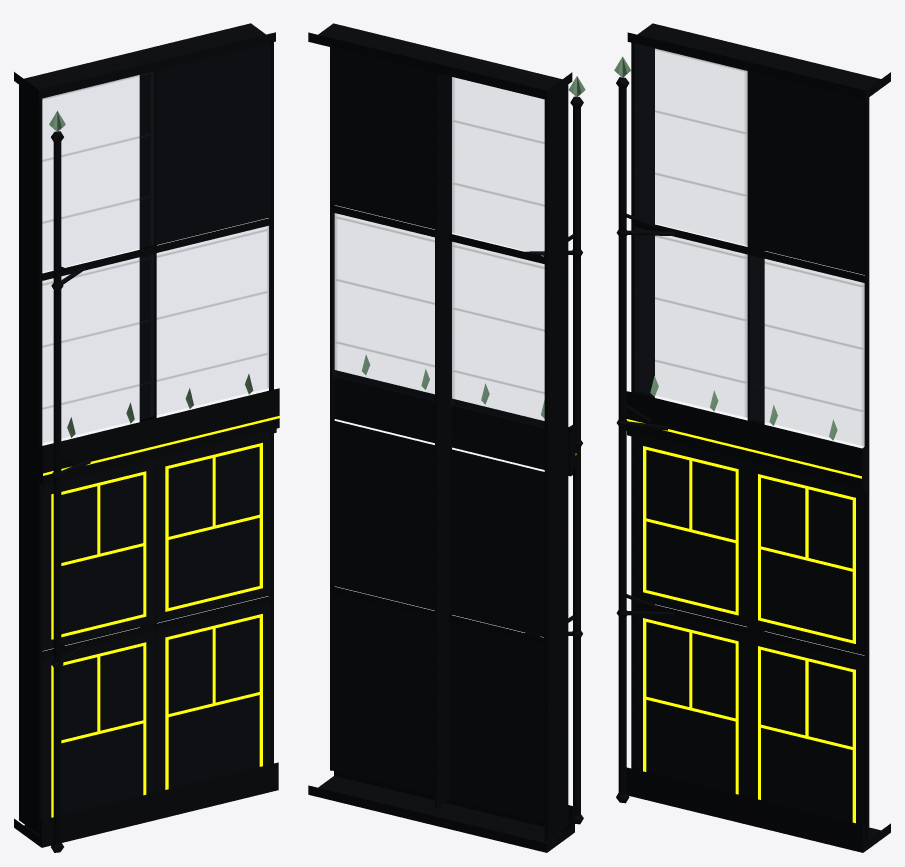
3 views of the same model, side by side, from view 1: azimuth 30°, elevation 25°; view 2: azimuth 150°, elevation 25°; view 3: azimuth 330°, elevation 25° (orthographic).
Parts seen in each view (by area): view 1: Slate_Panels, Frame, Slab_Band_Step, Court_Inlay, Glass_5, Glass_4, Glass_6, Slab_Band_Slate, Slab_Band_Court_Line; view 2: Slate_Panels, Frame, Slab_Band_Slate, Glass_5, Glass_4, Slab_Band_Step, Glass_6; view 3: Slate_Panels, Frame, Slab_Band_Step, Court_Inlay, Glass_5, Glass_4, Glass_6, Slab_Band_Slate, Slab_Band_Court_Line.
Part boxes in pixels (box(x1,y1,x2,y2)): Slate_Panels: box(42, 43, 271, 819); Frame: box(14, 23, 278, 852); Slab_Band_Step: box(39, 388, 279, 485); Court_Inlay: box(51, 442, 262, 817); Glass_5: box(157, 226, 270, 387); Glass_4: box(42, 254, 153, 416); Glass_6: box(42, 71, 153, 245); Slab_Band_Slate: box(37, 389, 276, 490); Slab_Band_Court_Line: box(43, 415, 279, 475); Slate_Panels: box(332, 26, 544, 822); Frame: box(308, 23, 583, 852); Slab_Band_Slate: box(334, 374, 572, 476); Glass_5: box(333, 213, 434, 376); Glass_4: box(451, 242, 544, 405); Slab_Band_Step: box(334, 370, 575, 467); Glass_6: box(451, 77, 544, 232); Slate_Panels: box(634, 71, 864, 824); Frame: box(616, 23, 890, 852); Slab_Band_Step: box(626, 391, 865, 488); Court_Inlay: box(643, 446, 855, 823); Glass_5: box(750, 258, 864, 445); Glass_4: box(635, 230, 747, 417); Glass_6: box(635, 44, 747, 245); Slab_Band_Slate: box(627, 391, 866, 493); Slab_Band_Court_Line: box(626, 419, 861, 478).
Bounding box in the file's own units: 4 × 12.2 × 1.2.
Materials: 5 (3 with a texture image).
